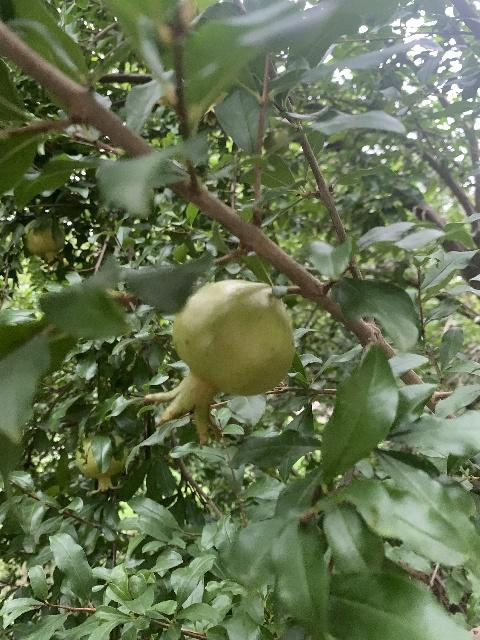mid-growth: (143, 279, 296, 445), (74, 434, 127, 497), (24, 217, 68, 270)
